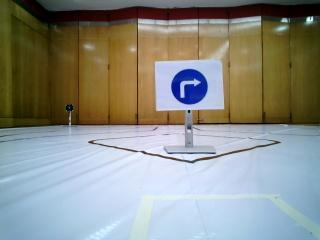right: (155, 64, 222, 109)
